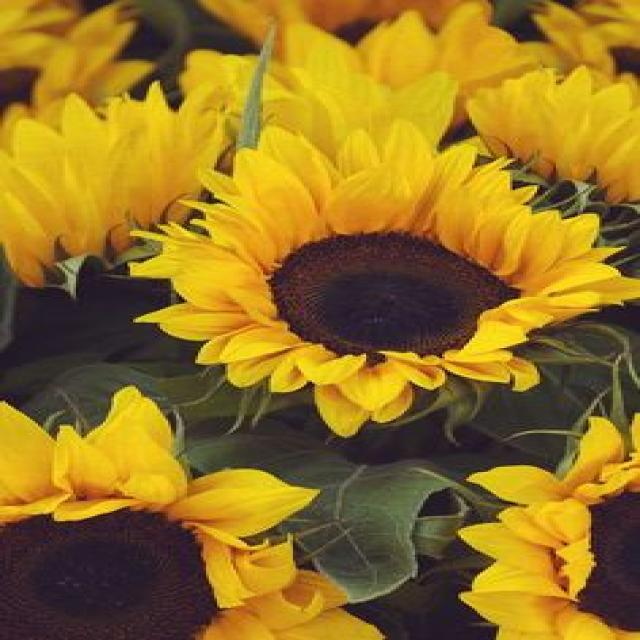sunflower: (124, 103, 640, 444), (0, 382, 344, 636)
